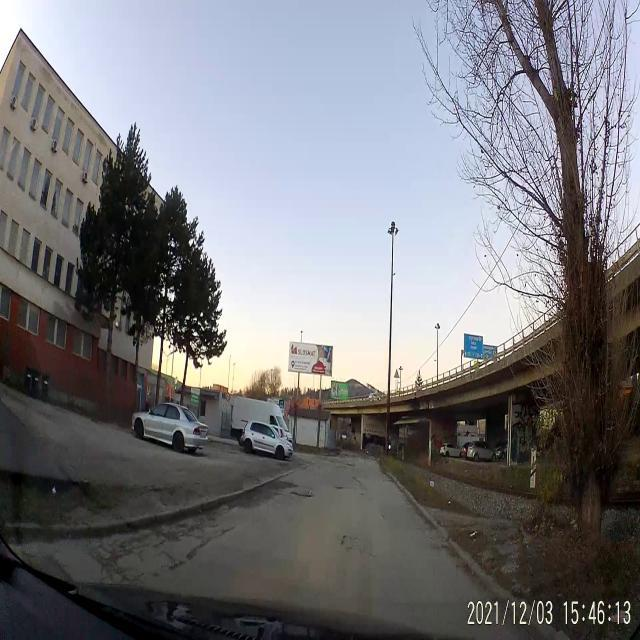Pothole: (335, 532, 361, 554), (288, 486, 318, 504), (334, 458, 360, 473), (334, 483, 348, 492)
